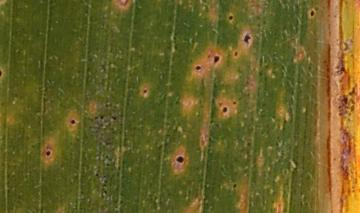tarspot: (241, 31, 252, 49), (173, 151, 186, 166), (41, 147, 54, 160), (192, 61, 204, 75), (210, 53, 222, 65), (306, 7, 317, 18), (67, 117, 79, 127), (219, 104, 228, 116), (141, 85, 149, 98), (225, 13, 235, 22), (231, 49, 239, 59), (229, 98, 238, 106), (231, 182, 239, 189), (1, 67, 5, 80)
